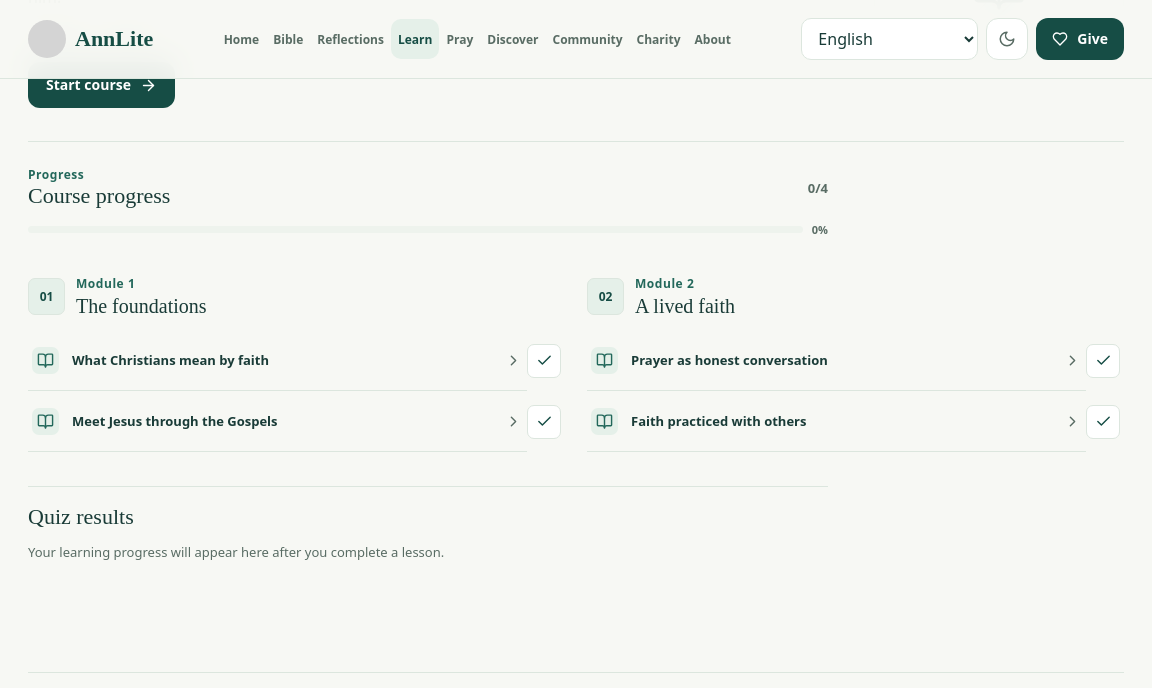
it: AnnLite web experience › course completion displays completed modules and a full progress bar
The image size is (1152, 688).
(page scrolled)
Check: the navigation bar named "Main navigation" is shown, box [217, 19, 738, 59]
Click the button named "Mark lesson as complete" at (544, 361), box [527, 344, 561, 378]
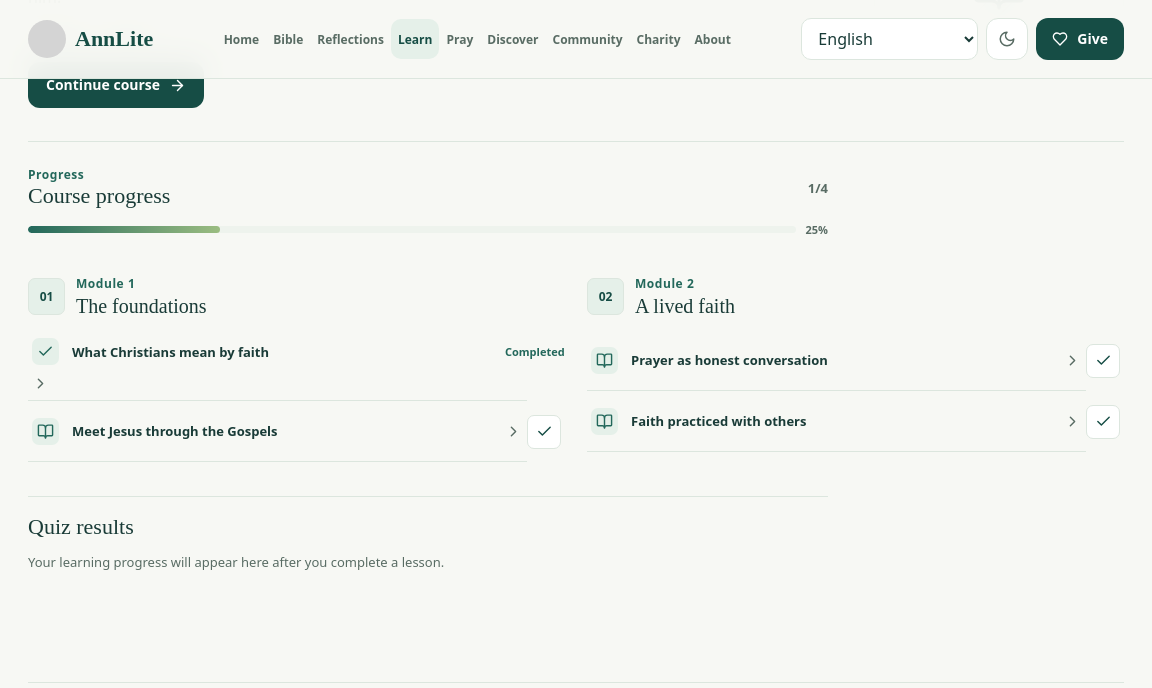
Click the button named "Mark lesson as complete" at (544, 432), box [527, 415, 561, 449]
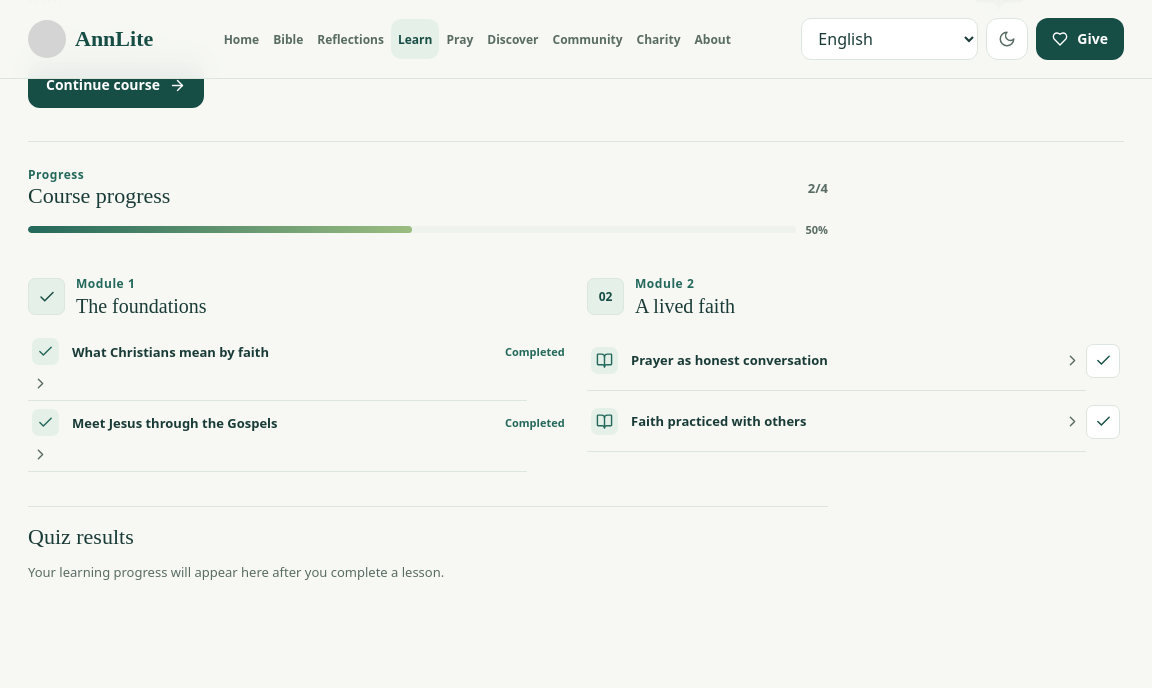
Click the button named "Mark lesson as complete" at (1103, 361), box [1086, 344, 1120, 378]
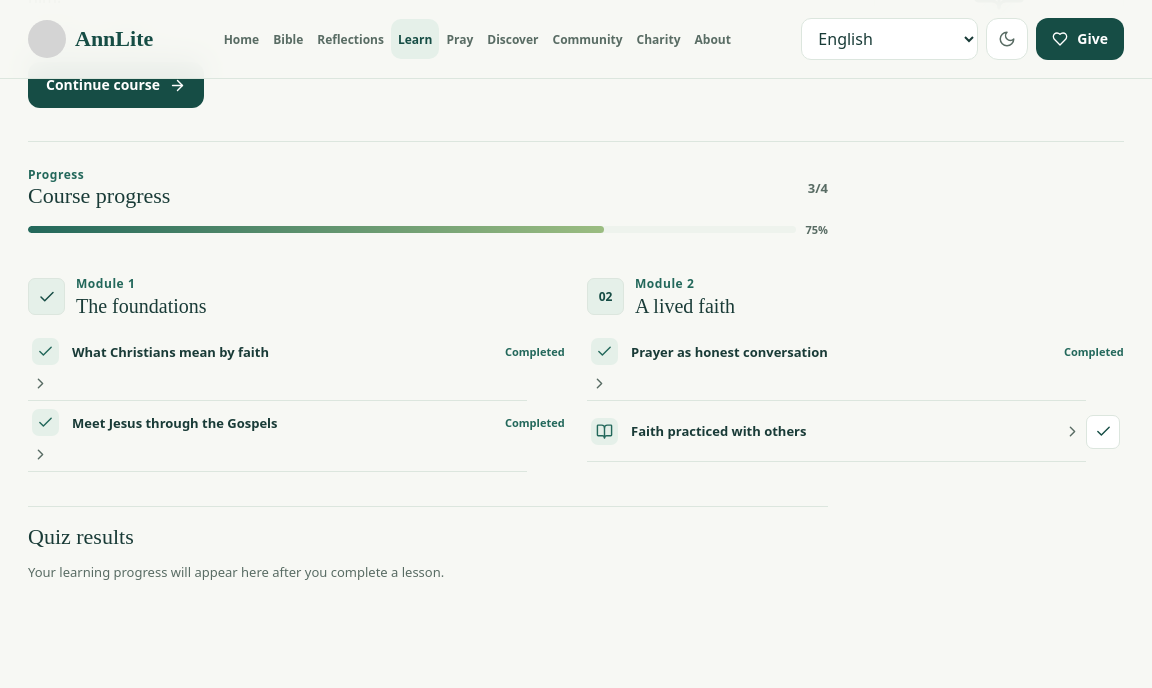
Click the button named "Mark lesson as complete" at (1103, 432), box [1086, 415, 1120, 449]
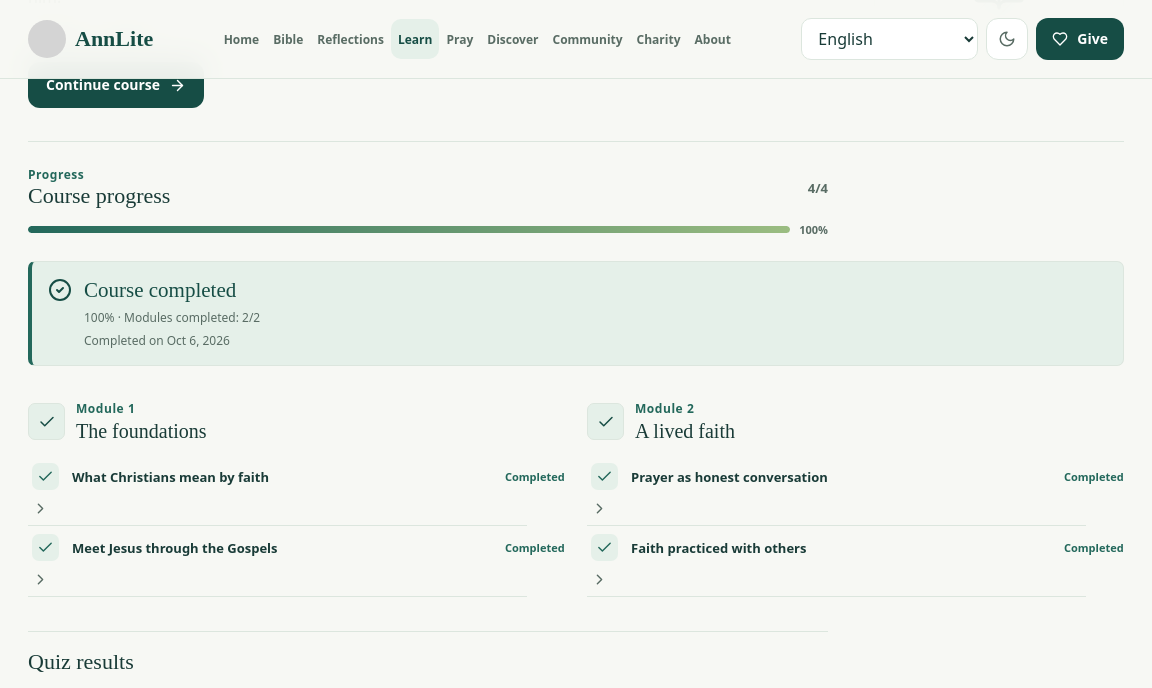
Check: the heading "Course completed" is shown, box [84, 278, 260, 304]
Check: the text "100% · Modules completed: 2/2" is shown, box [84, 310, 260, 326]
Check: the text "Completed on Oct 6, 2026" is shown, box [84, 332, 230, 350]
